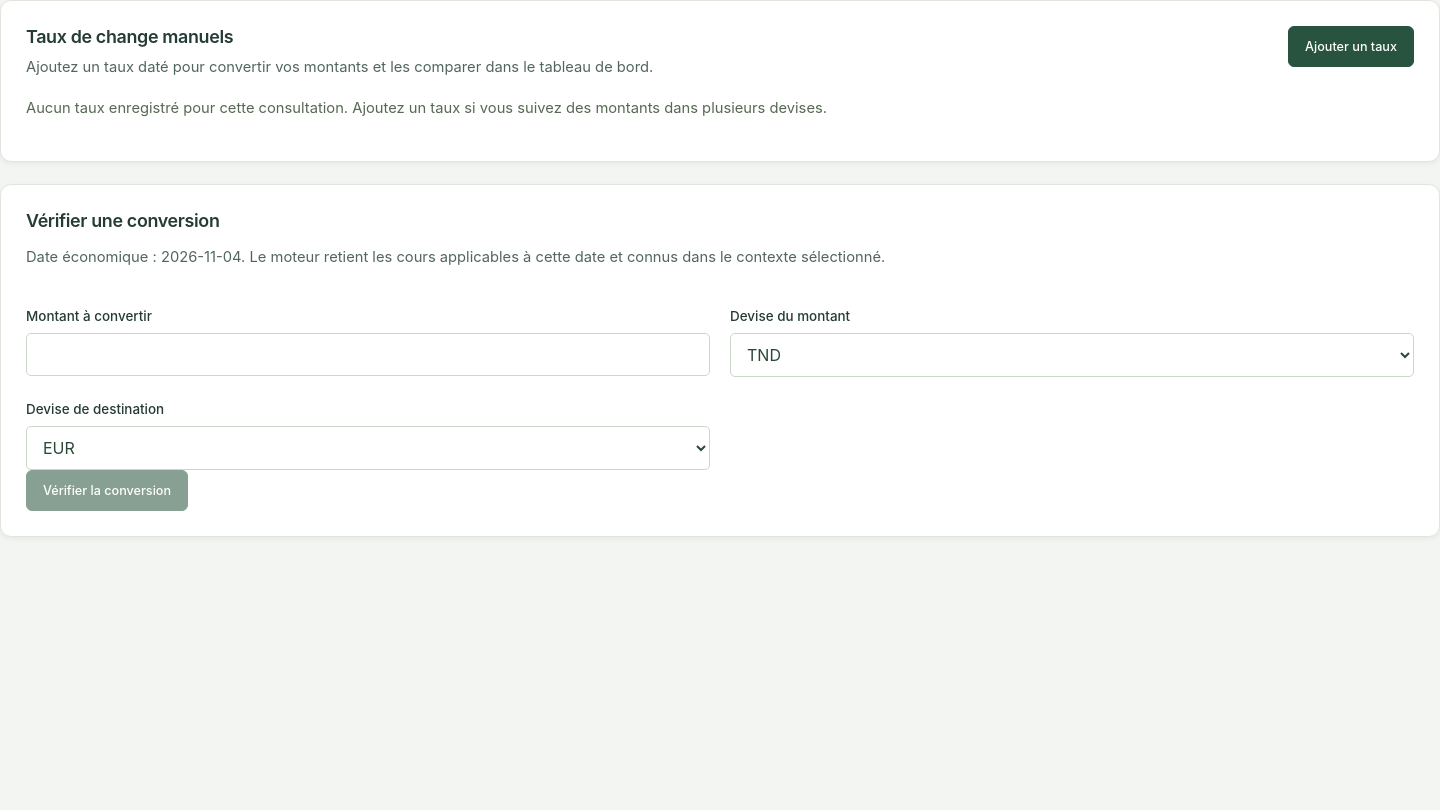
it: Taux manuels et conversions locales › REG-06 masque le résultat précédent après modification de Devise du montant
This screenshot has width=1440, height=810.
Type "10" into the field labelled "Montant à convertir" at (368, 355), box 26,334 -> 710,376
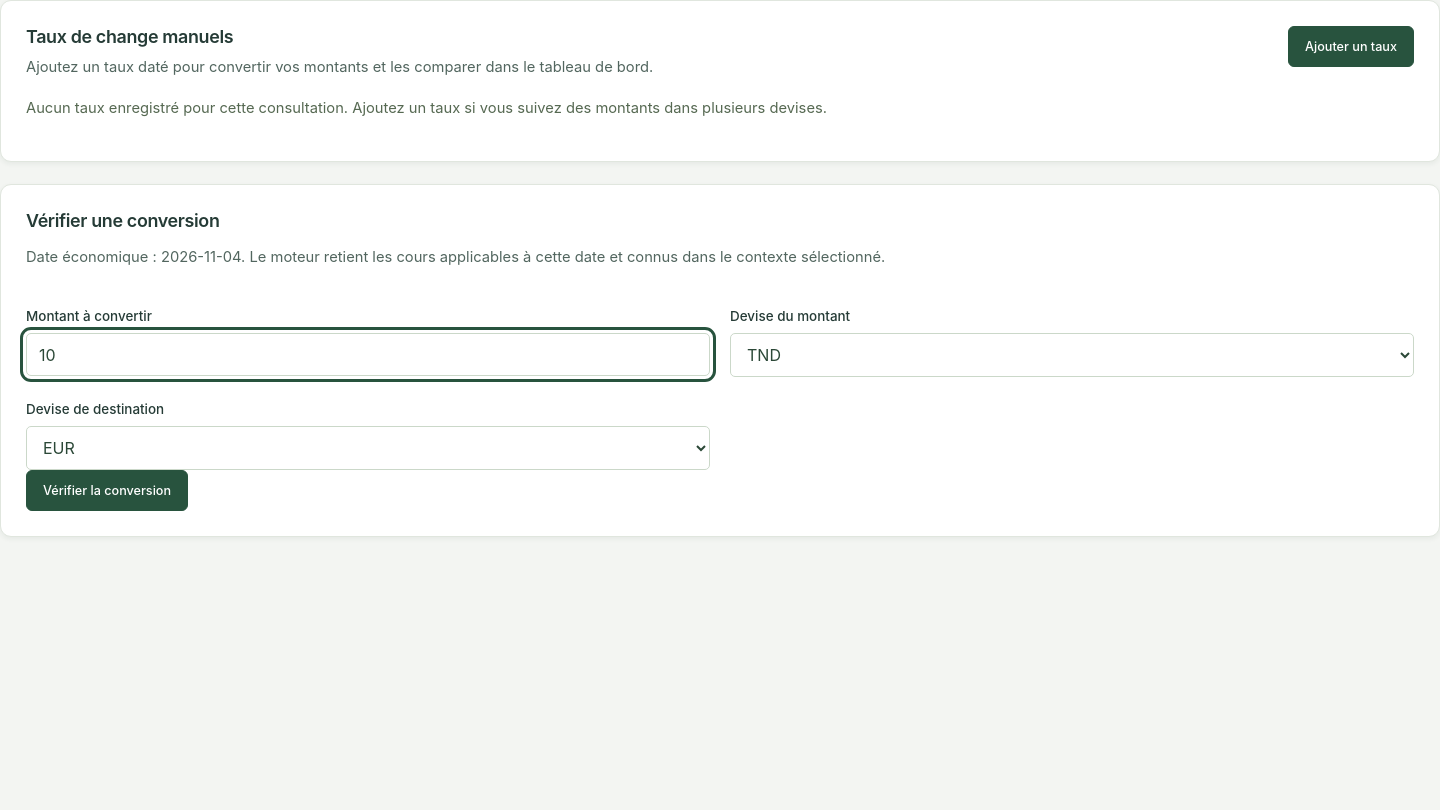
Click the button "Vérifier la conversion" at (107, 491), box 26,470 -> 188,512
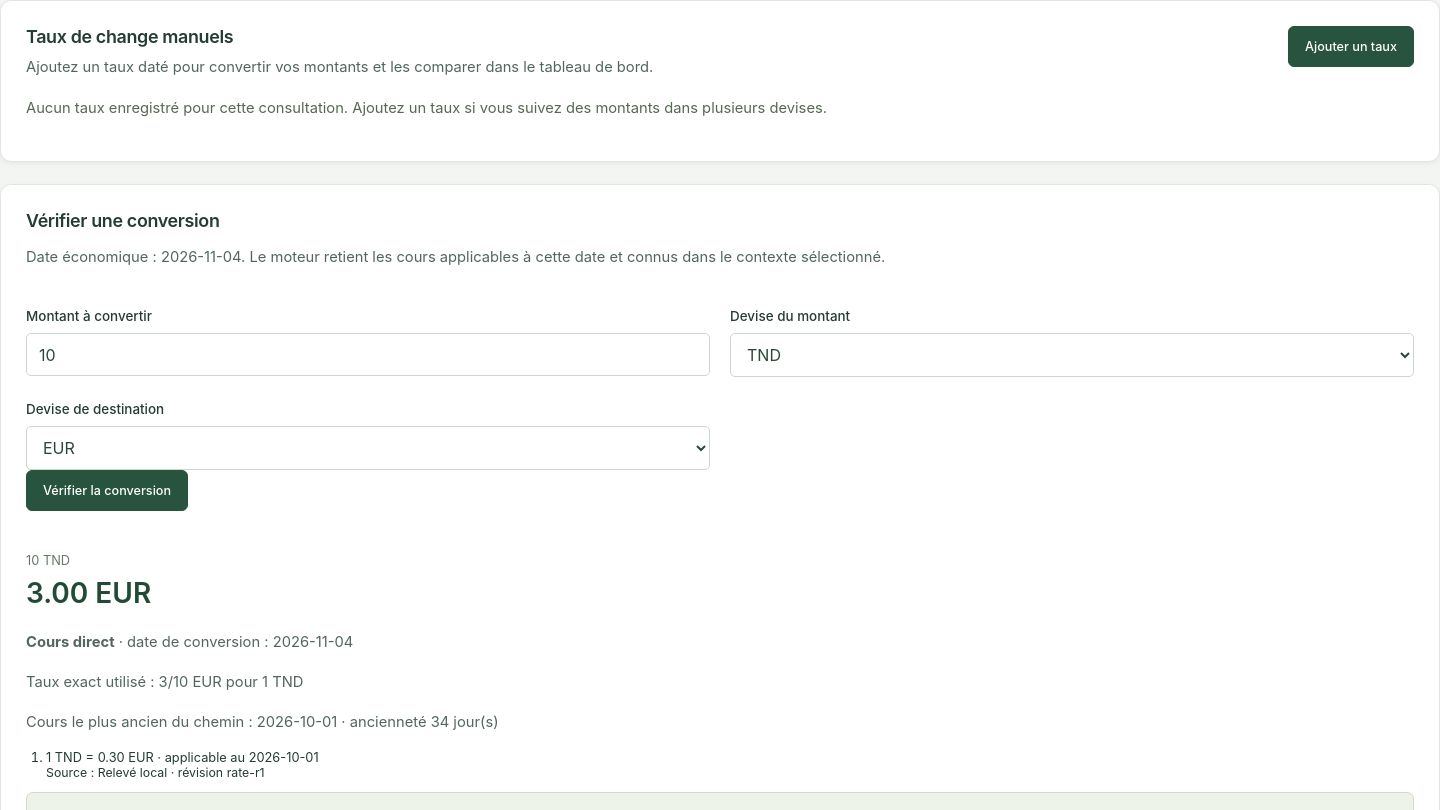
Check: the text "3.00 EUR" is shown, box 26,576 -> 151,610
Select "CHF" in the dropdown labelled "Devise du montant" at (1072, 356), box 730,334 -> 1414,378
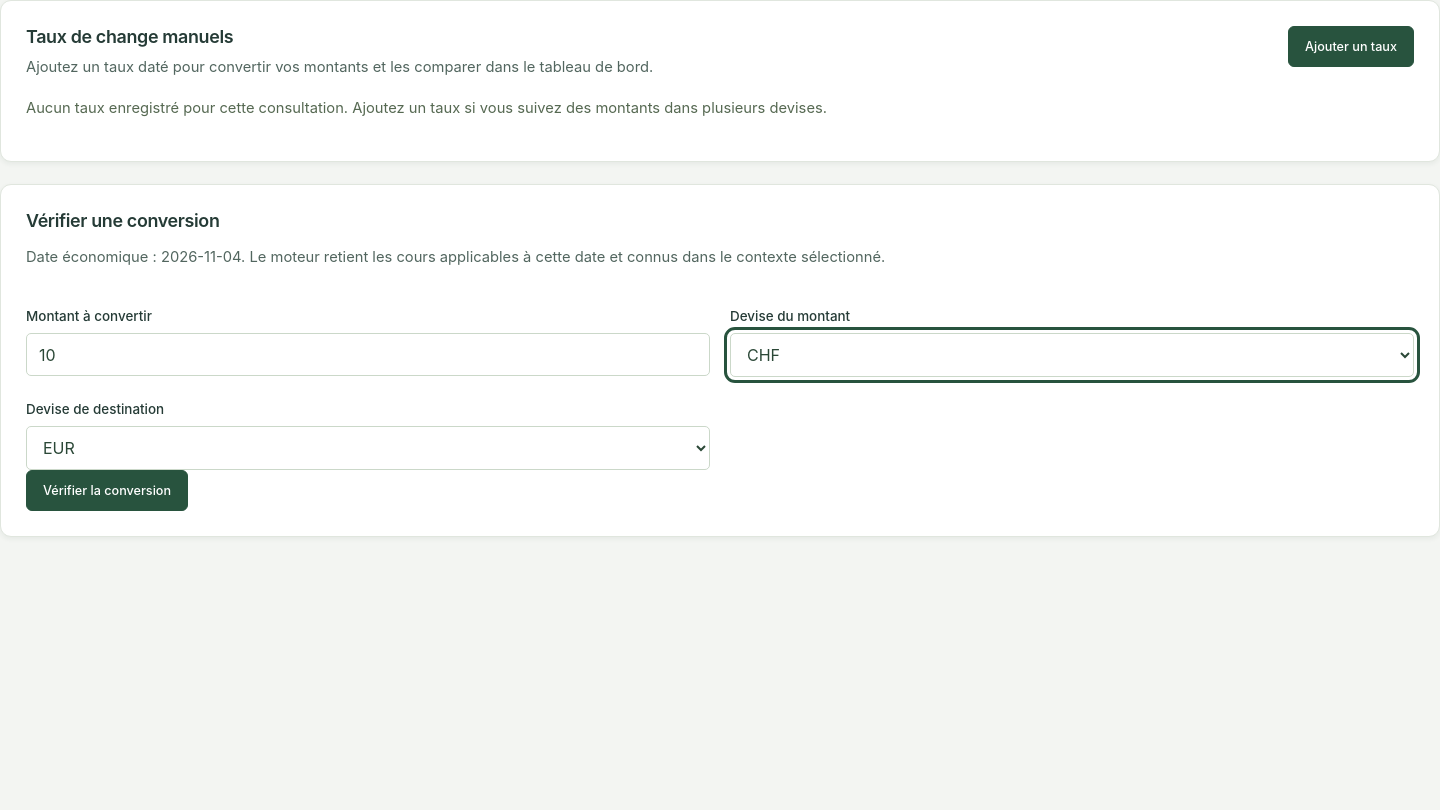
Check: the text "3.00 EUR" is gone
